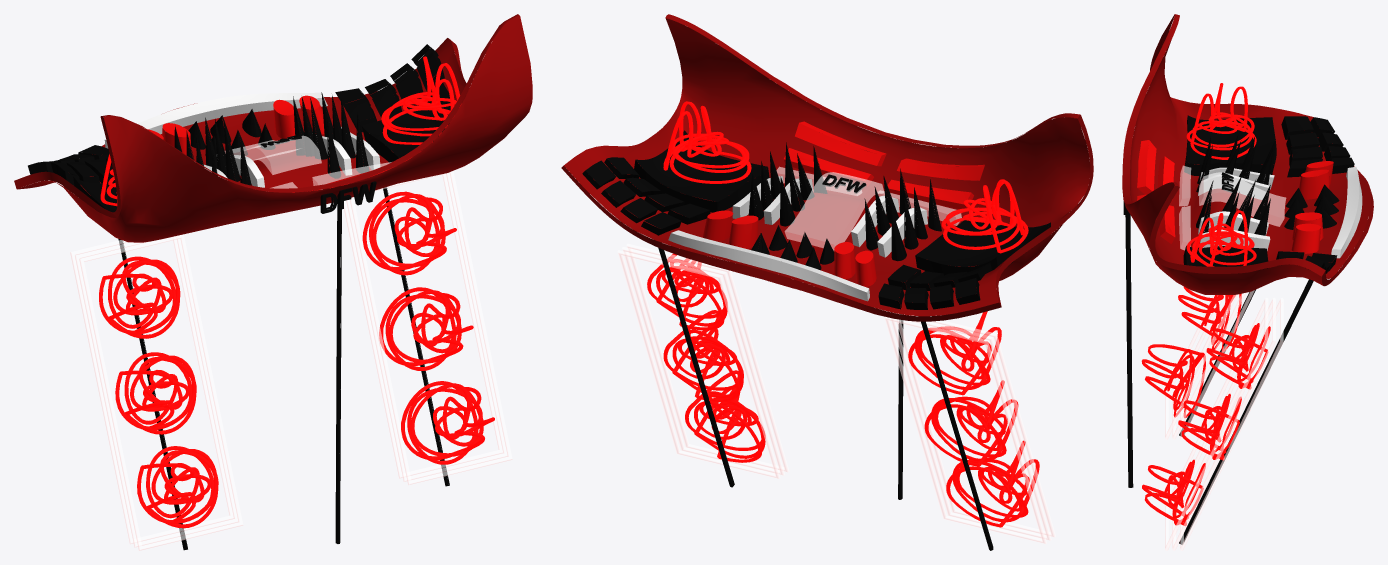
The model's file is DJ2_2_red-V2-v48.glb.
3 views of the same model, side by side, from view 1: azimuth 30°, elevation 25°; view 2: azimuth 150°, elevation 25°; view 3: azimuth 270°, elevation 25° (orthographic). The views are drawn at different scales.
Visible parts, largest first — view 1: DJSET_2-V2, donen dalga.001, DJ2_2_red; view 2: DJSET_2-V2, donen dalga.001, DJ2_2_red; view 3: DJSET_2-V2, donen dalga.001, DJ2_2_red.
Boxes of the visible parts, bbox=[...] form: DJSET_2-V2: bbox=[14, 14, 532, 550]; donen dalga.001: bbox=[99, 191, 494, 528]; DJ2_2_red: bbox=[100, 56, 461, 206]; DJSET_2-V2: bbox=[561, 14, 1093, 550]; donen dalga.001: bbox=[647, 253, 1039, 527]; DJ2_2_red: bbox=[663, 101, 1028, 253]; DJSET_2-V2: bbox=[1122, 14, 1373, 550]; donen dalga.001: bbox=[1141, 286, 1270, 526]; DJ2_2_red: bbox=[1186, 83, 1256, 266].
Size of the model in its own units: 1.2 by 1.19 by 0.701.
